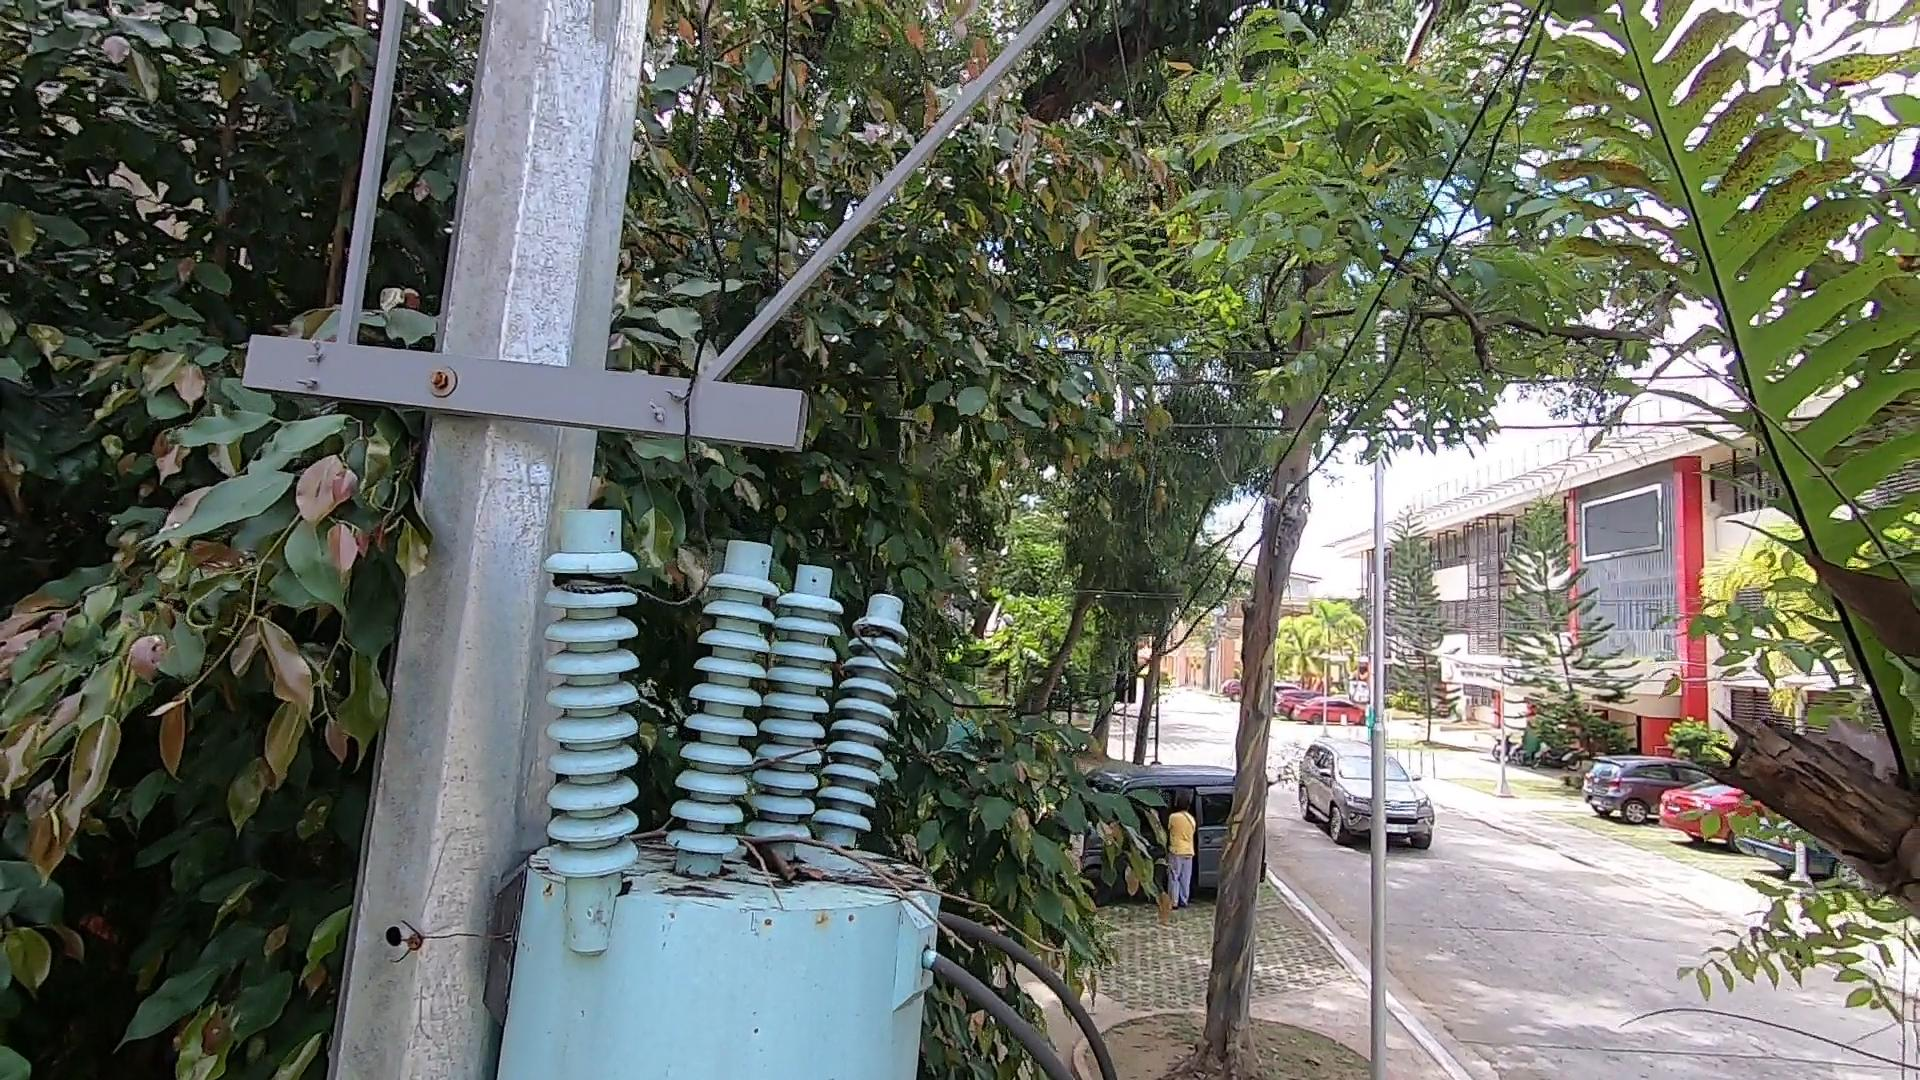leaf: (724, 827, 829, 893)
tree branch: (617, 791, 1073, 984)
